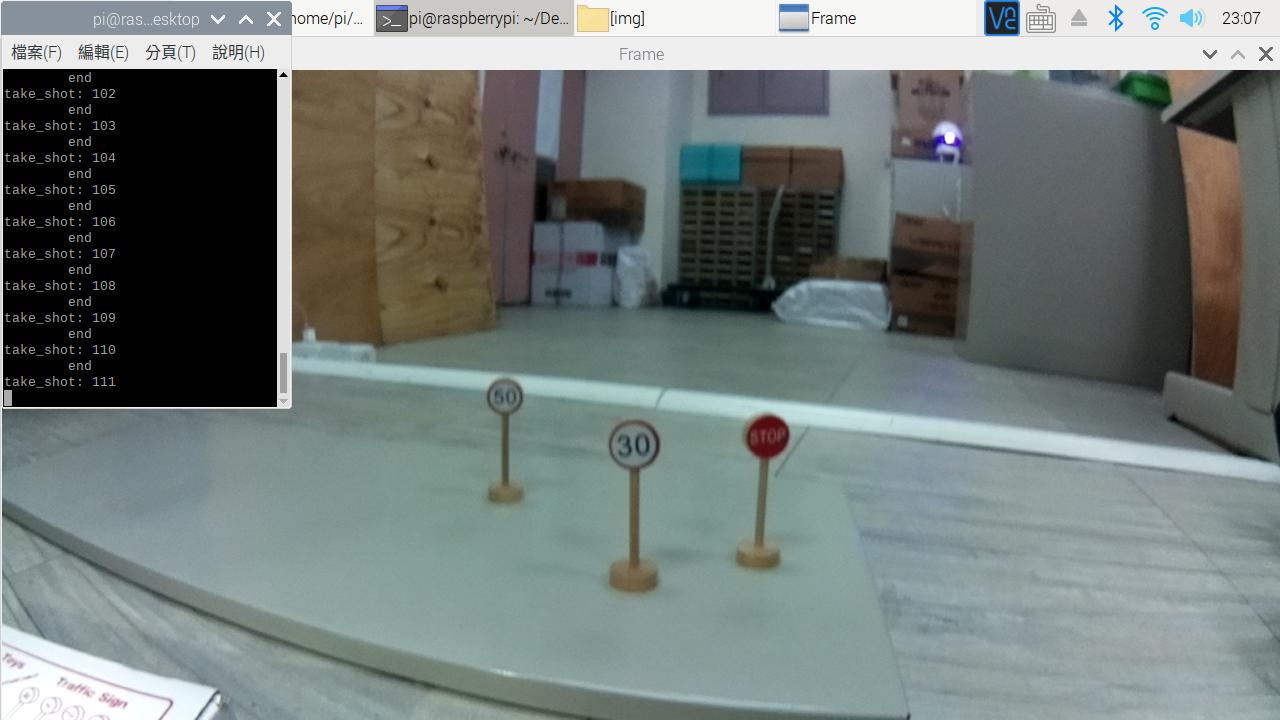Speed30: (599, 412, 672, 478)
Speed50: (482, 374, 534, 418)
Stop: (738, 408, 801, 473)
